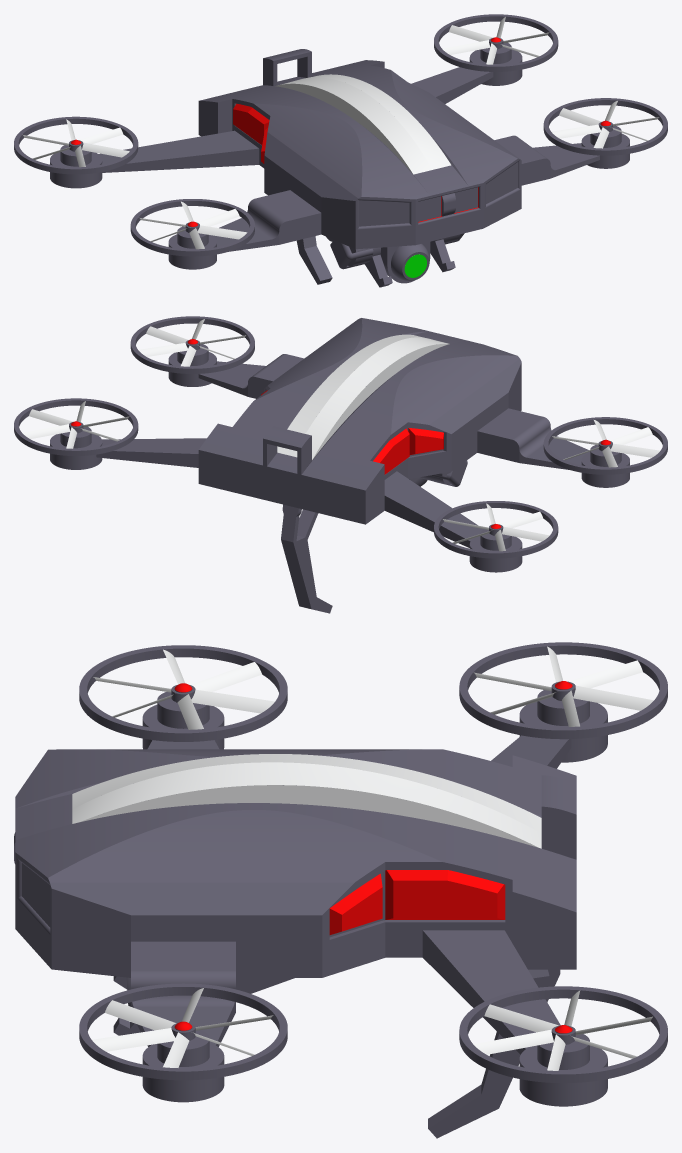
The model's file is drone.glb.
The picture shows the model from 3 angles, top to bottom: view 1: azimuth 30°, elevation 25°; view 2: azimuth 150°, elevation 25°; view 3: azimuth 270°, elevation 25°; orthographic projection. The views are drawn at different scales.
Parts seen in each view (by area): view 1: Drone (×12); view 2: Drone (×10); view 3: Drone (×18).
Part boxes in pixels (<box>): Drone (×12): <box>14,14,667,287</box>; Drone (×10): <box>14,316,667,613</box>; Drone (×18): <box>14,642,667,1138</box>.
Size of the model in its own units: 0.6374 by 0.2553 by 0.4077.
Materials: 35 (4 with a texture image).
